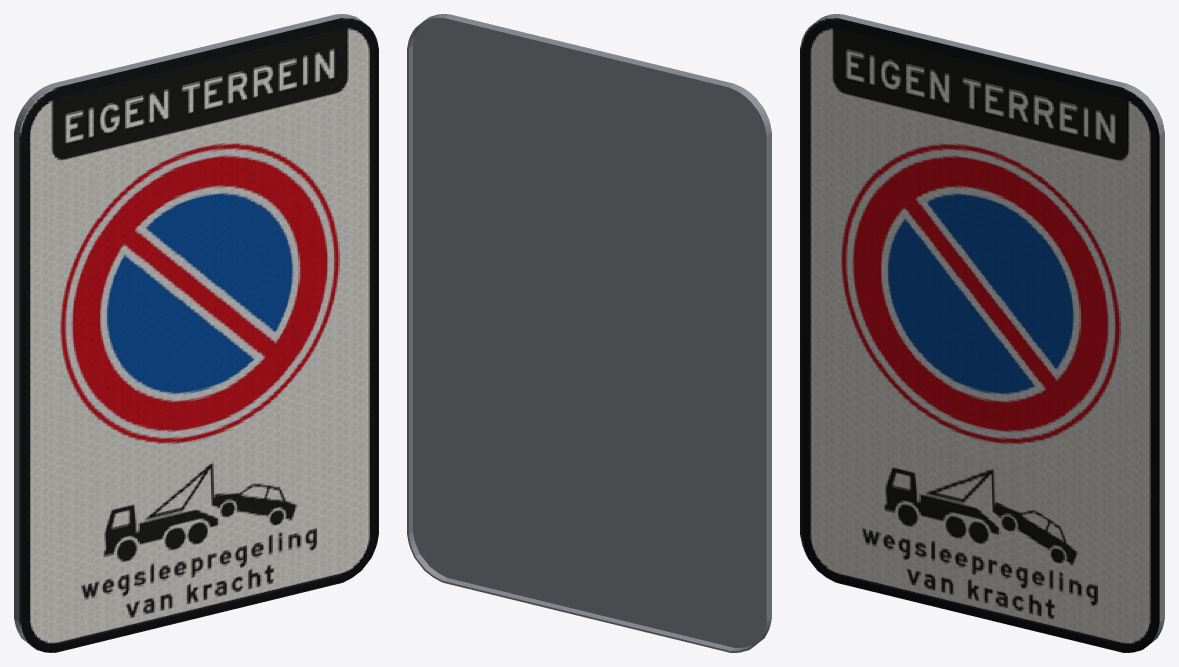
The picture shows the model from 3 angles, left to right: view 1: azimuth 30°, elevation 25°; view 2: azimuth 150°, elevation 25°; view 3: azimuth 330°, elevation 25°; orthographic projection.
Parts seen in each view (by area): view 1: cat_6d944cb61454a551; view 2: cat_6d944cb61454a551; view 3: cat_6d944cb61454a551.
Part boxes in pixels (x1,y1,x2,y2): cat_6d944cb61454a551: (14, 14, 378, 652); cat_6d944cb61454a551: (407, 14, 771, 652); cat_6d944cb61454a551: (800, 14, 1164, 652).
Bounding box in the file's own units: 0.6 × 0.015 × 0.9012.
2 materials, 1 textured.
